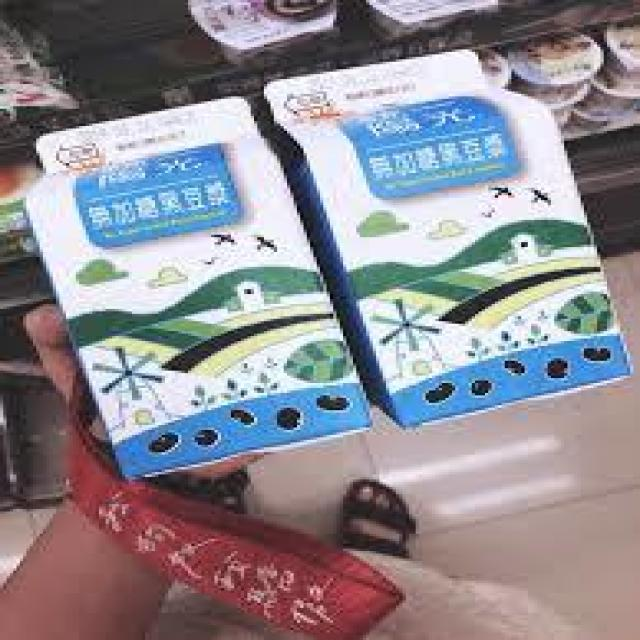TongYi_UnsweetenedBlackSoyMilk: (23, 89, 375, 474)
